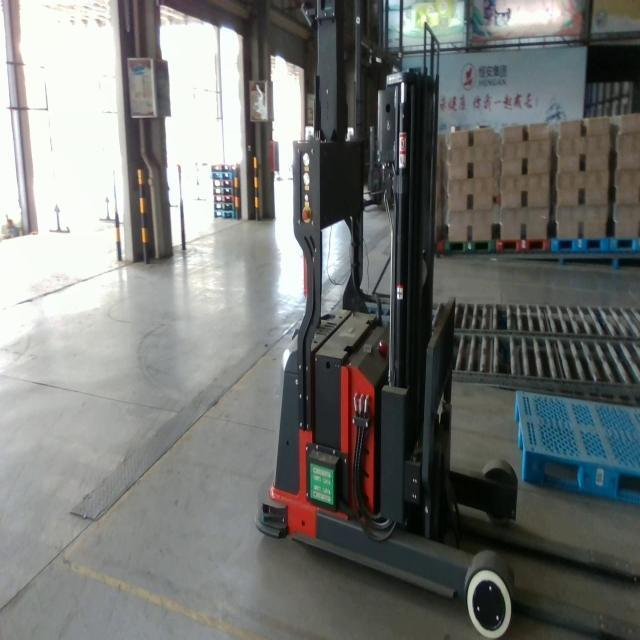forklift: (253, 0, 640, 640)
